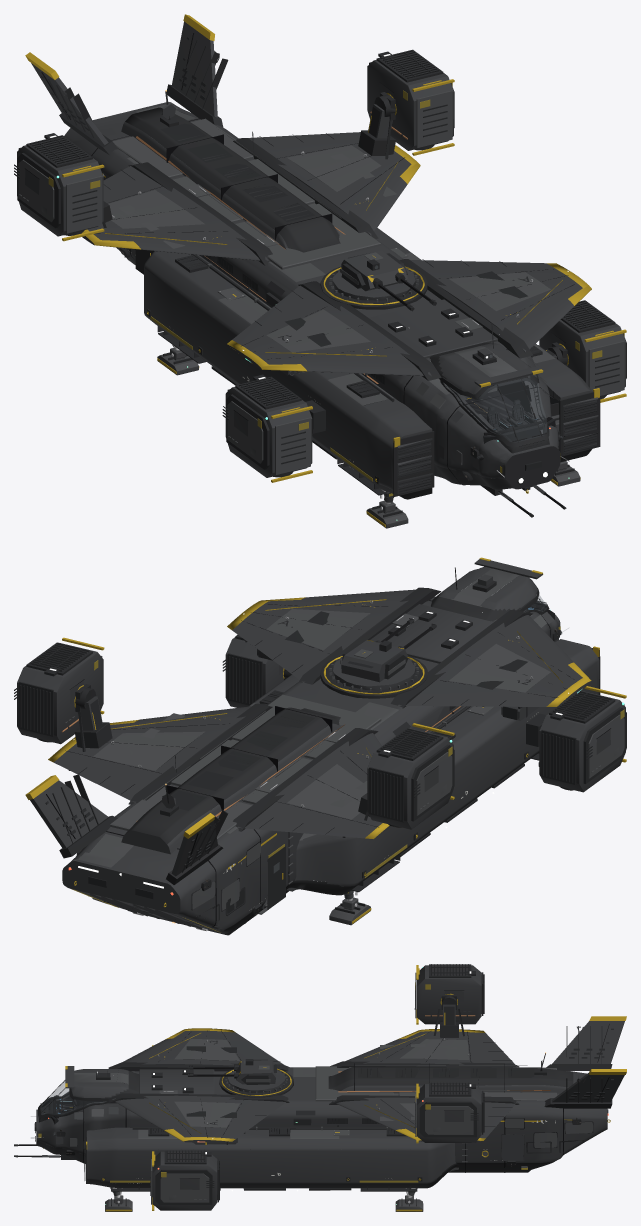
File: HarpyieFern.b0e20c011b.glb
3 views of the same model, one above another, from view 1: azimuth 30°, elevation 25°; view 2: azimuth 150°, elevation 25°; view 3: azimuth 270°, elevation 25° (orthographic). The views are drawn at different scales.
Parts seen in each view (by area): view 1: Dachpanzer.004, Andockring.006, Dachpanzer.005, Bugstirn.001, Auslegerholm.004, Behaeltergitter.002, Kanzelglas.001, Gondelklappe.010, Duesenschaufel.112, Duesenschaufel.096, Andockkern.006, Einlassschlitz.006 (+16 smaller); view 2: Dachpanzer.004, Dachpanzer.005, Andockring.006, Bugstirn.001, Auslegerholm.004, Behaeltergitter.002, Gondelklappe.010, Andockkern.006, Auslassrahmen.007, Auslassrahmen.006, Gondelklappe.012, Gondelklappe.014 (+13 smaller); view 3: Dachpanzer.004, Andockring.006, Dachpanzer.005, Bugstirn.001, Auslegerholm.004, Gondelklappe.014, Behaeltergitter.002, Andockkern.006, Gondelklappe.008, Gondelklappe.010, Duesenschaufel.064, Duesenschaufel.080 (+10 smaller).
Boxes of the visible parts, x1,y1,x2,y2 form: Dachpanzer.004: (64,102,592,489); Andockring.006: (40,37,600,517); Dachpanzer.005: (108,102,555,405); Bugstirn.001: (97,107,591,499); Auslegerholm.004: (31,21,598,500); Behaeltergitter.002: (58,68,596,494); Kanzelglas.001: (375,265,562,458); Gondelklappe.010: (367,59,453,150); Duesenschaufel.112: (18,159,102,233); Duesenschaufel.096: (227,401,310,474); Andockkern.006: (60,51,547,478); Einlassschlitz.006: (157,326,596,495); Dachpanzer.004: (53,566,599,931); Dachpanzer.005: (72,568,550,867); Andockring.006: (45,567,600,920); Bugstirn.001: (85,594,599,935); Auslegerholm.004: (30,559,558,876); Behaeltergitter.002: (62,611,527,922); Gondelklappe.010: (17,642,103,744); Andockkern.006: (64,602,547,914); Auslassrahmen.007: (369,728,454,827); Auslassrahmen.006: (541,692,626,790); Gondelklappe.012: (539,691,625,792); Gondelklappe.014: (367,728,453,829); Dachpanzer.004: (36,1028,607,1183); Andockring.006: (14,994,613,1190); Dachpanzer.005: (74,1039,556,1138); Bugstirn.001: (36,1038,573,1188); Auslegerholm.004: (42,1004,624,1172); Gondelklappe.014: (417,965,481,1024); Behaeltergitter.002: (34,1046,608,1180); Andockkern.006: (70,1026,592,1162); Gondelklappe.008: (152,1151,217,1210); Gondelklappe.010: (417,1084,481,1142); Duesenschaufel.064: (151,1159,209,1204); Duesenschaufel.080: (415,1091,473,1136).
Bounding box in the file's own units: 19.69 × 10.18 × 37.56.
